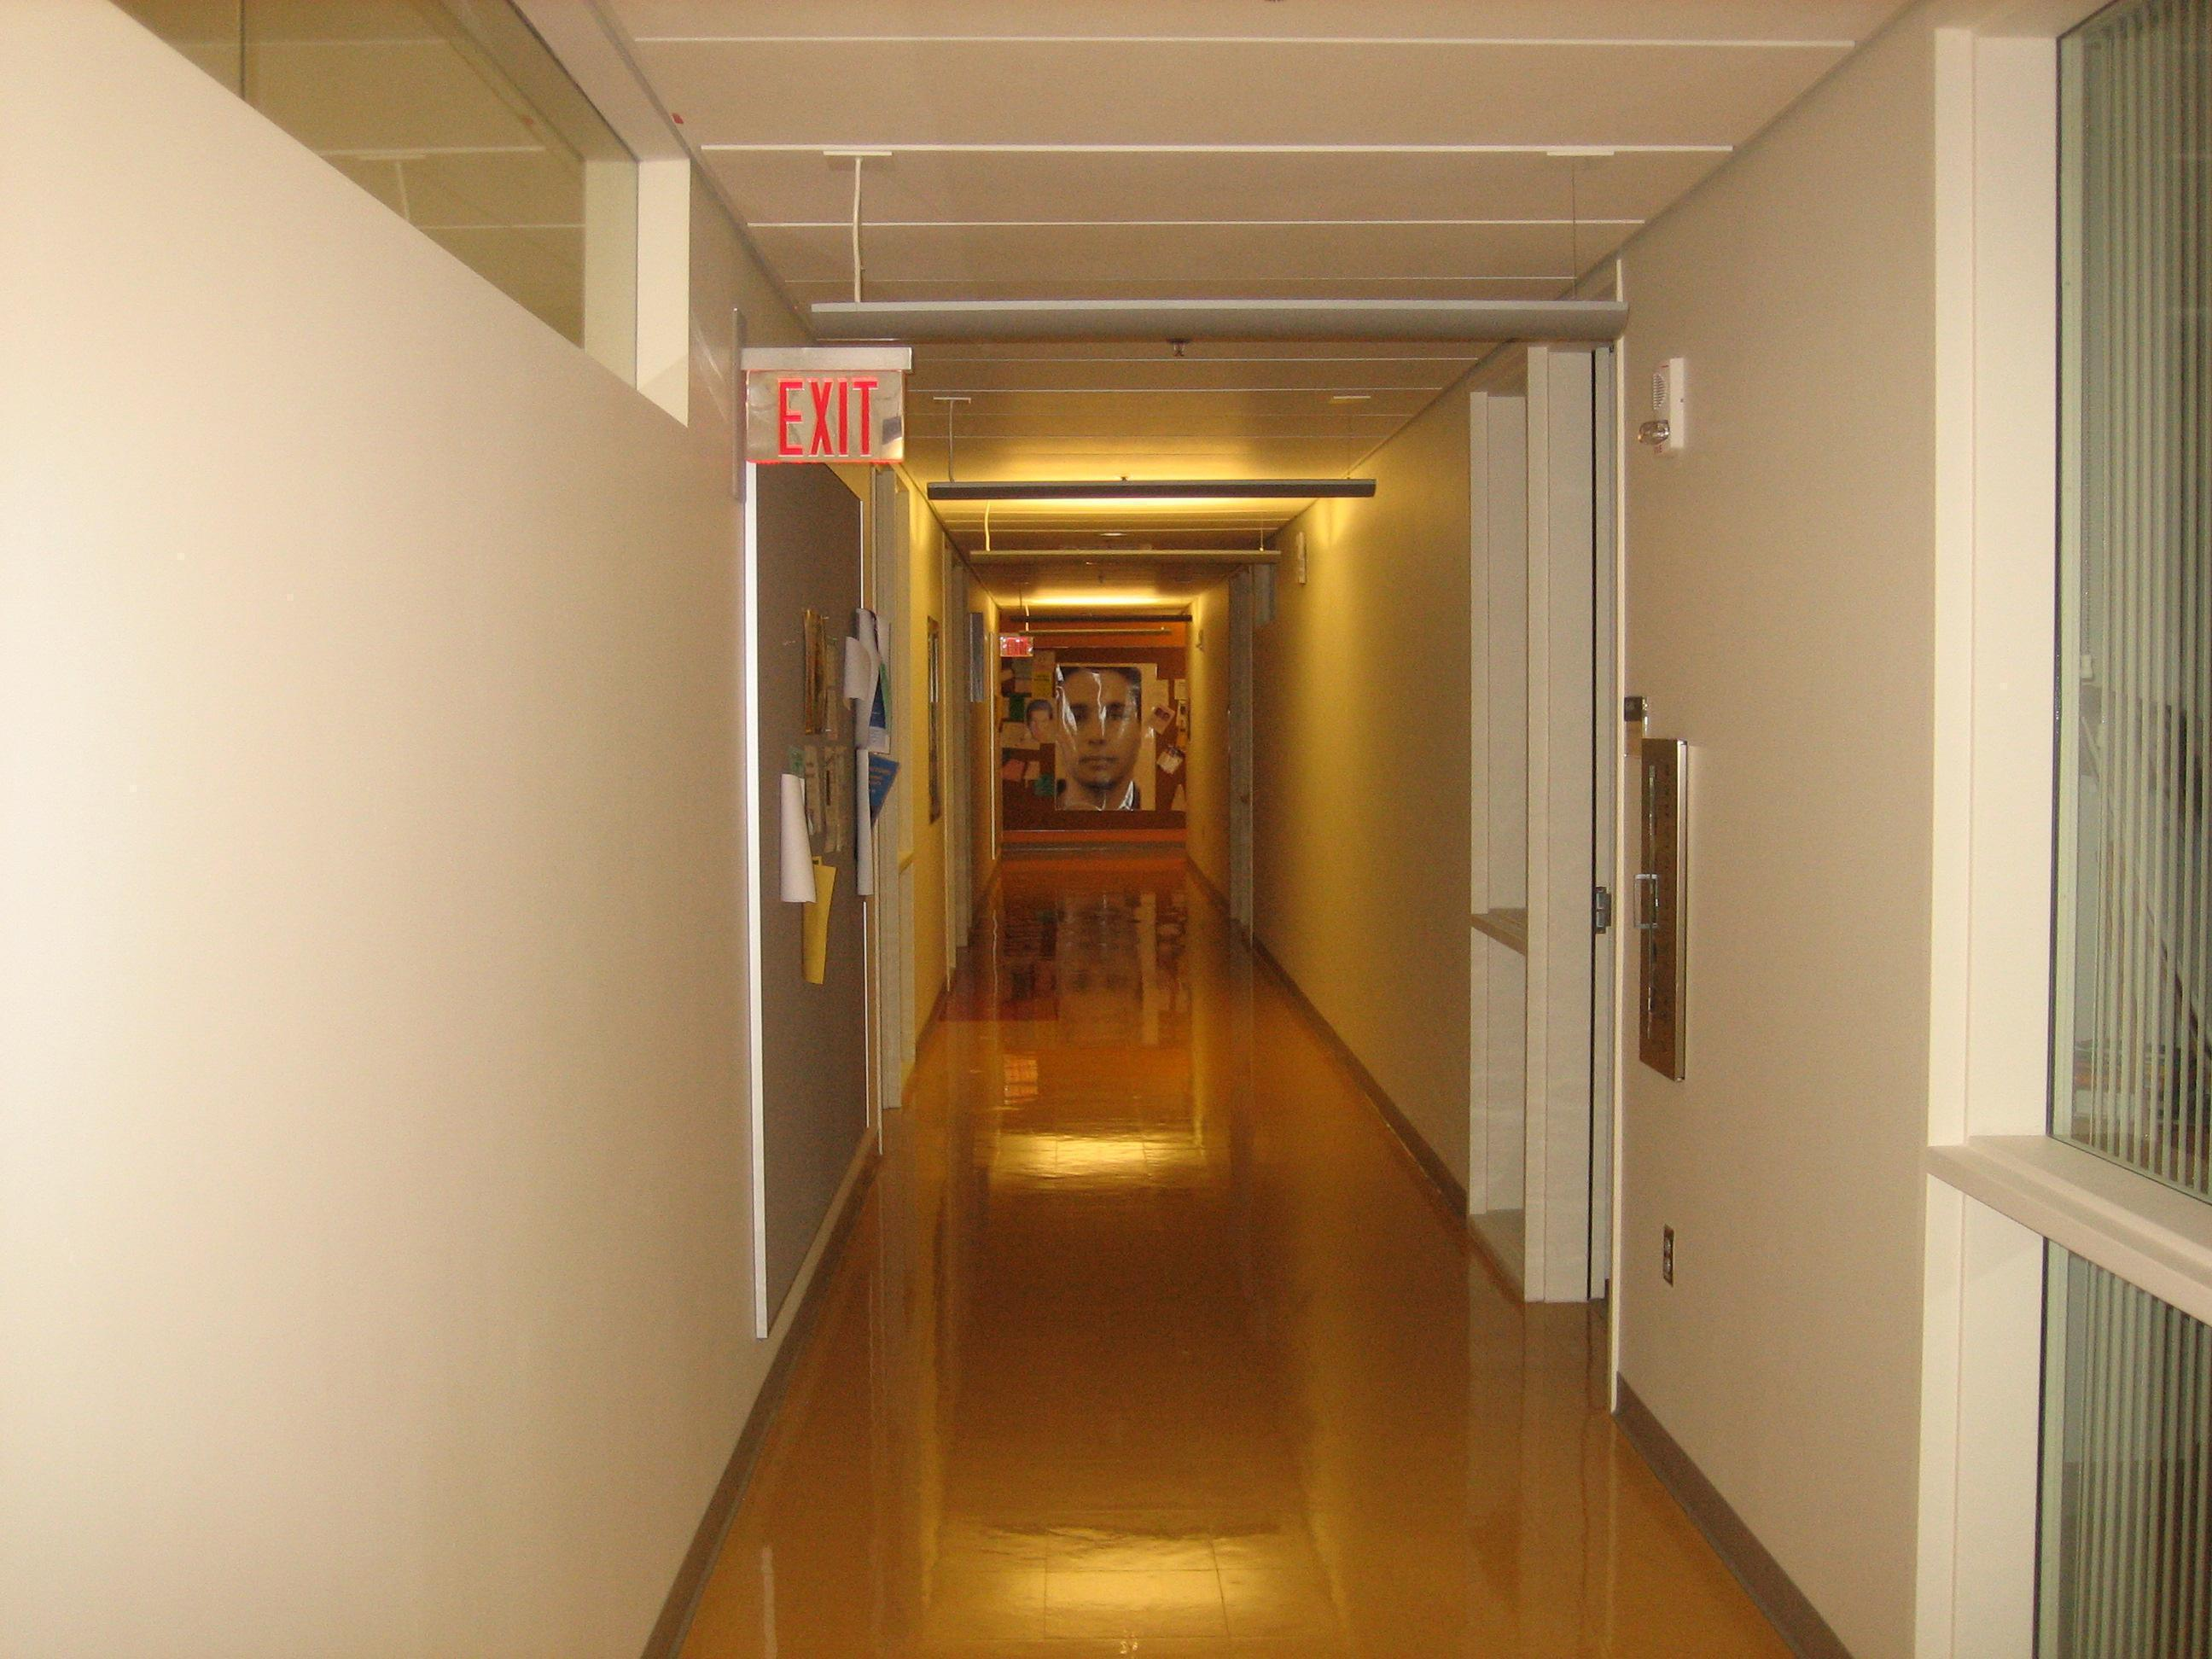Ventana: (1979, 71, 2205, 1649)
